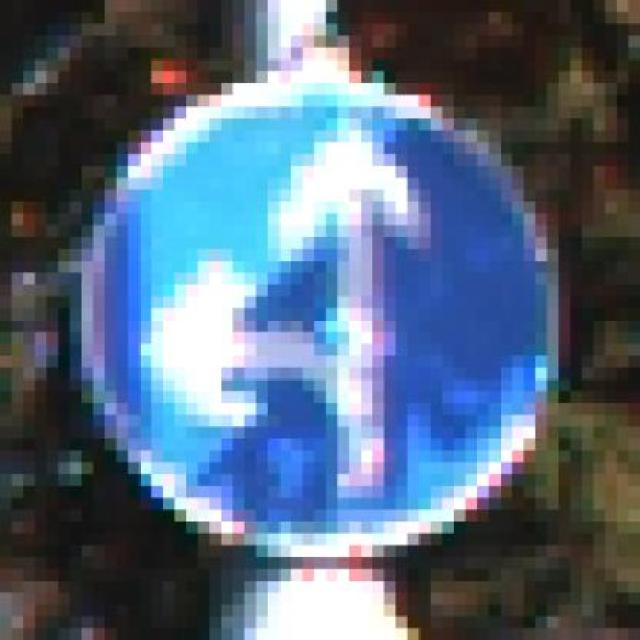Go straight or turn left: (46, 59, 617, 558)
